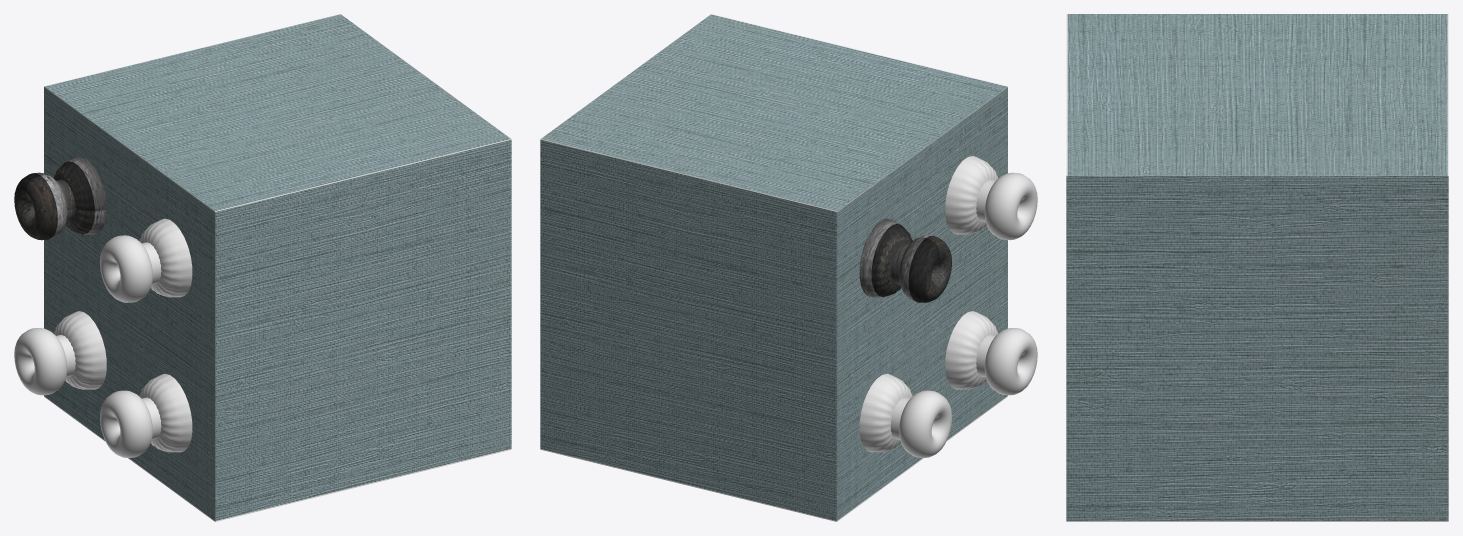
Rendered from canon.fbx.
3 views of the same model, side by side, from view 1: azimuth 30°, elevation 25°; view 2: azimuth 150°, elevation 25°; view 3: azimuth 270°, elevation 25° (orthographic). The views are drawn at different scales.
Visible parts, largest first — view 1: Box, Canon4, Canon2, Canon, Canon1; view 2: Box, Canon, Canon1, Canon4, Canon2; view 3: Box.
Part boxes in pixels (box(x1,y1,x2,y2)): Box: box(44, 14, 511, 521); Canon4: box(100, 373, 192, 457); Canon2: box(100, 218, 192, 302); Canon: box(14, 311, 106, 395); Canon1: box(14, 156, 106, 240); Box: box(540, 14, 1007, 521); Canon: box(859, 373, 951, 457); Canon1: box(859, 218, 951, 302); Canon4: box(945, 311, 1037, 395); Canon2: box(945, 156, 1037, 240); Box: box(1066, 14, 1448, 521).
Bounding box in the file's own units: 1.21 × 1 × 1.
Materials: 2 (2 with a texture image).
